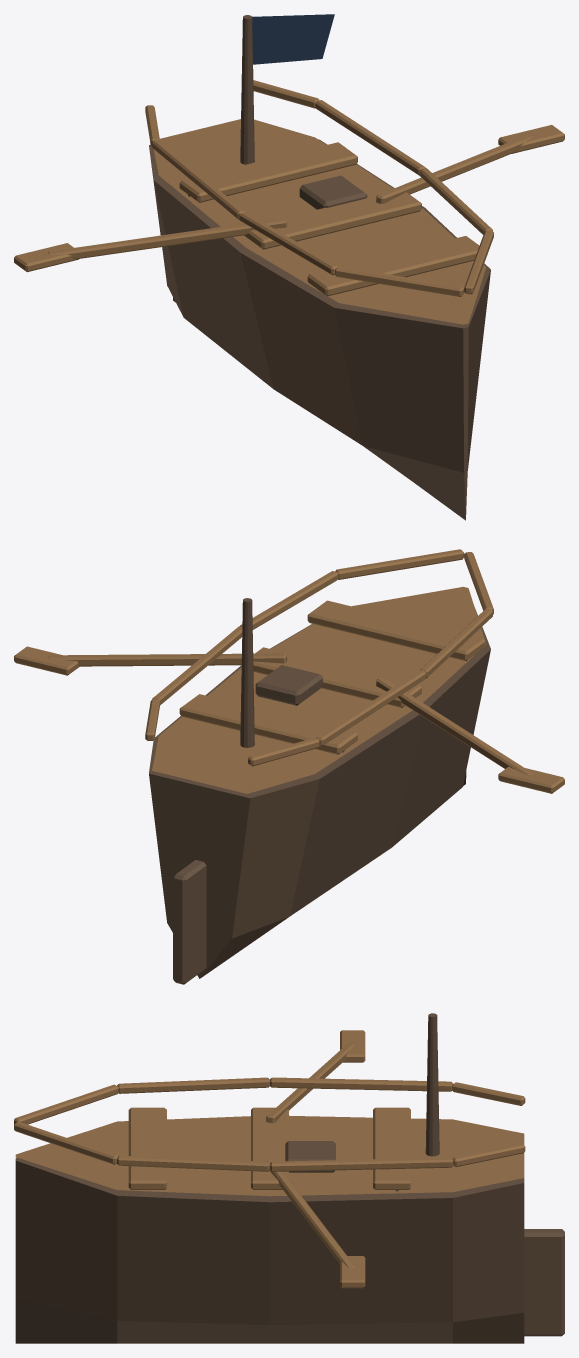
Rendered from ships-rowboat.lod0.glb.
3 renders of one model, top to bottom at view 1: azimuth 30°, elevation 25°; view 2: azimuth 150°, elevation 25°; view 3: azimuth 270°, elevation 25°, orthographic. The views are drawn at different scales.
Parts seen in each view (by area): view 1: ships-rowboat__body, ships-rowboat__flag, ships-rowboat__oar--1, ships-rowboat__oar-1, ships-rowboat__hatch; view 2: ships-rowboat__body, ships-rowboat__rudder, ships-rowboat__oar-1, ships-rowboat__oar--1, ships-rowboat__hatch; view 3: ships-rowboat__body, ships-rowboat__rudder, ships-rowboat__oar-1, ships-rowboat__oar--1, ships-rowboat__hatch.
Boxes of the visible parts, left/top/right/bottom form: ships-rowboat__body: left=145, top=15, right=493, bottom=520; ships-rowboat__flag: left=252, top=14, right=334, bottom=64; ships-rowboat__oar--1: left=14, top=218, right=287, bottom=272; ships-rowboat__oar-1: left=376, top=125, right=564, bottom=203; ships-rowboat__hatch: left=299, top=175, right=367, bottom=209; ships-rowboat__body: left=145, top=549, right=493, bottom=978; ships-rowboat__rudder: left=173, top=860, right=206, bottom=984; ships-rowboat__oar-1: left=14, top=646, right=287, bottom=675; ships-rowboat__oar--1: left=376, top=677, right=564, bottom=793; ships-rowboat__hatch: left=255, top=665, right=322, bottom=705; ships-rowboat__body: left=14, top=1013, right=525, bottom=1343; ships-rowboat__rudder: left=524, top=1229, right=564, bottom=1336; ships-rowboat__oar-1: left=267, top=1160, right=365, bottom=1288; ships-rowboat__oar--1: left=266, top=1030, right=365, bottom=1123; ships-rowboat__hatch: left=285, top=1141, right=335, bottom=1172.
Size of what is drawn, in the model's own units: 4.68 by 2.85 by 4.33.
